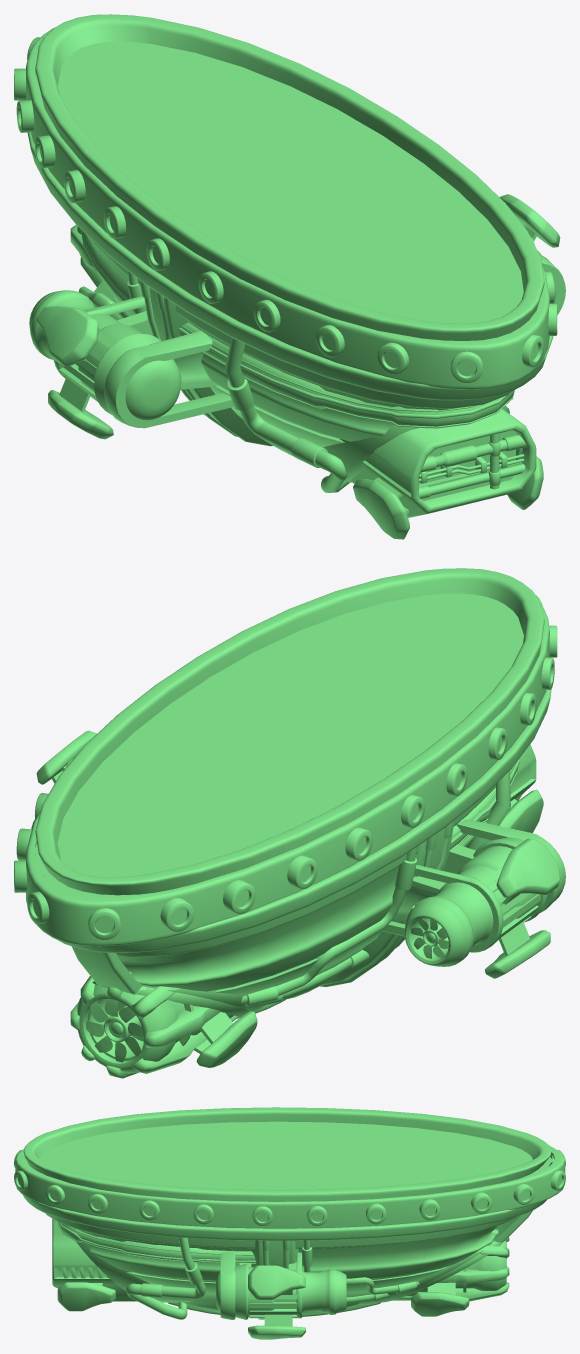
The model's file is SM_BatimentV4_low.fbx.
3 renders of one model, top to bottom at view 1: azimuth 30°, elevation 25°; view 2: azimuth 150°, elevation 25°; view 3: azimuth 270°, elevation 25°, orthographic. The views are drawn at different scales.
Visible parts, largest first — view 1: Box6707; view 2: Box6707; view 3: Box6707.
Boxes of the visible parts, box(x1,y1,x2,y2) form: Box6707: box(14, 14, 565, 539); Box6707: box(14, 568, 565, 1078); Box6707: box(14, 1107, 565, 1339).
Bounding box in the file's own units: 6914 × 3421 × 10534.
